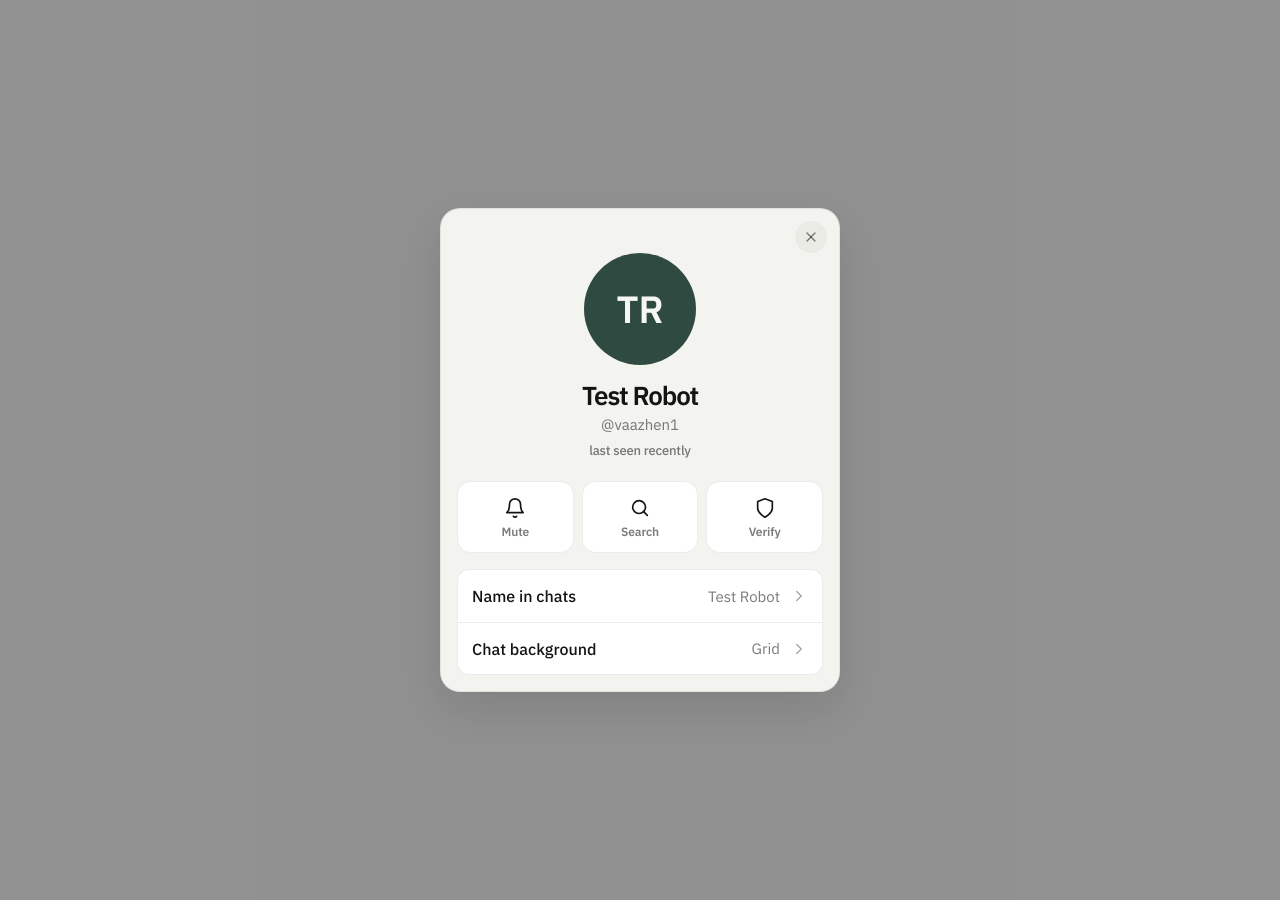
Test: UserProfileModal › opens local name as a nested screen
Click the text "Name in chats" at (524, 596), box [472,586,576,606]
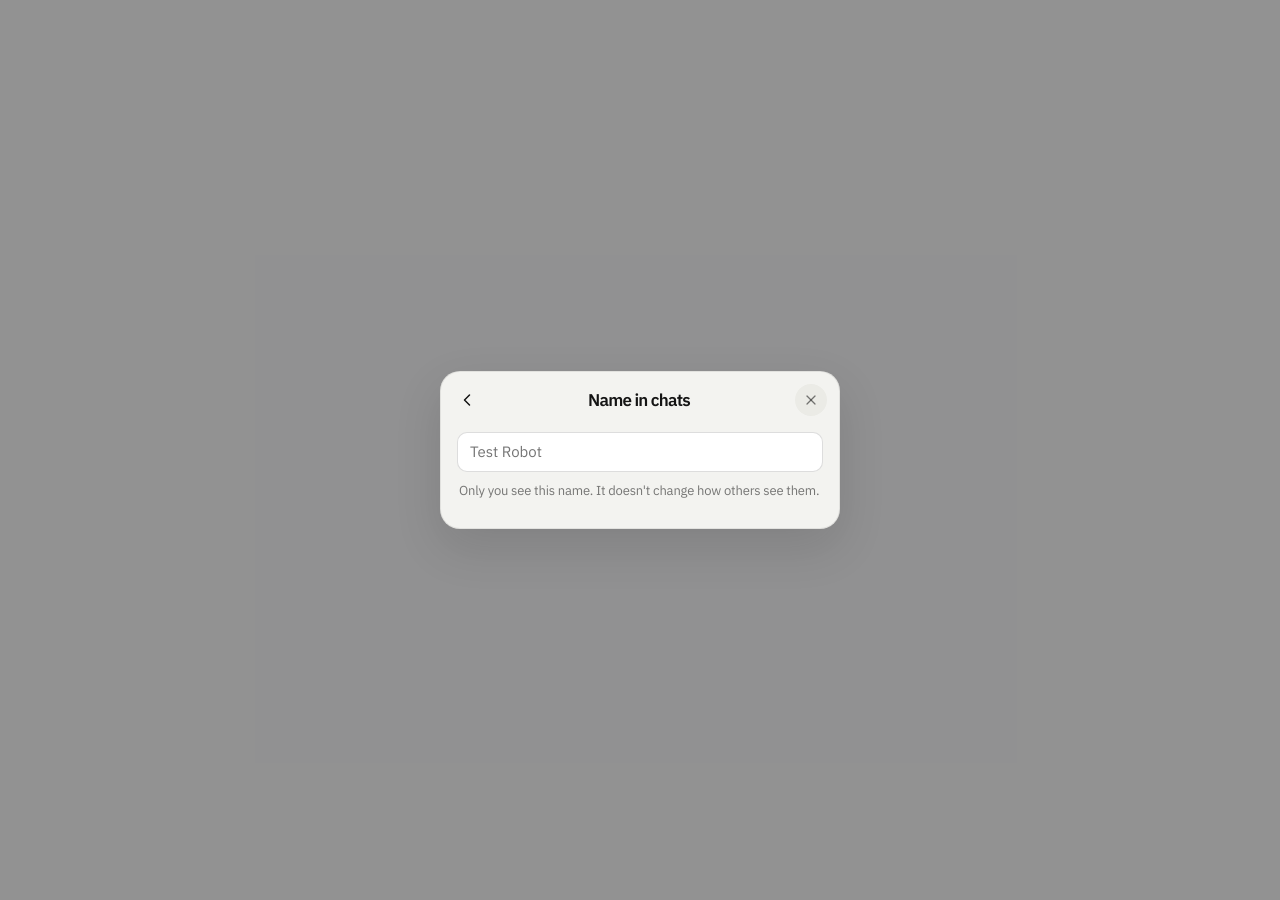
Now the field with placeholder "Test Robot" is shown, box [457,432,823,472]
Now the text "Only you see this name" is shown, box [459,482,819,499]
Now the button "Mute" is gone
